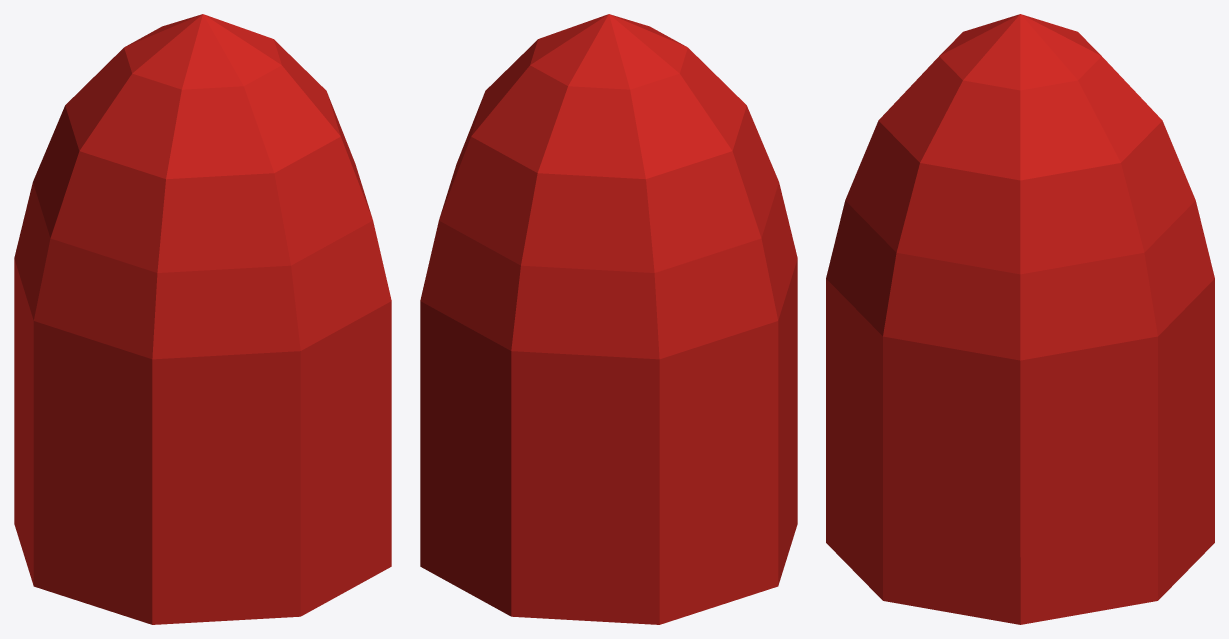
The model's file is Damage.gltf.
The picture shows the model from 3 angles, left to right: view 1: azimuth 30°, elevation 25°; view 2: azimuth 150°, elevation 25°; view 3: azimuth 270°, elevation 25°; orthographic projection.
Visible parts, largest first — view 1: damage_powerup; view 2: damage_powerup; view 3: damage_powerup.
Part boxes in pixels (<box>): damage_powerup: <box>14,14,391,624</box>; damage_powerup: <box>420,14,797,624</box>; damage_powerup: <box>826,14,1214,624</box>.
Bounding box in the file's own units: 0.1333 × 0.2 × 0.1333.
